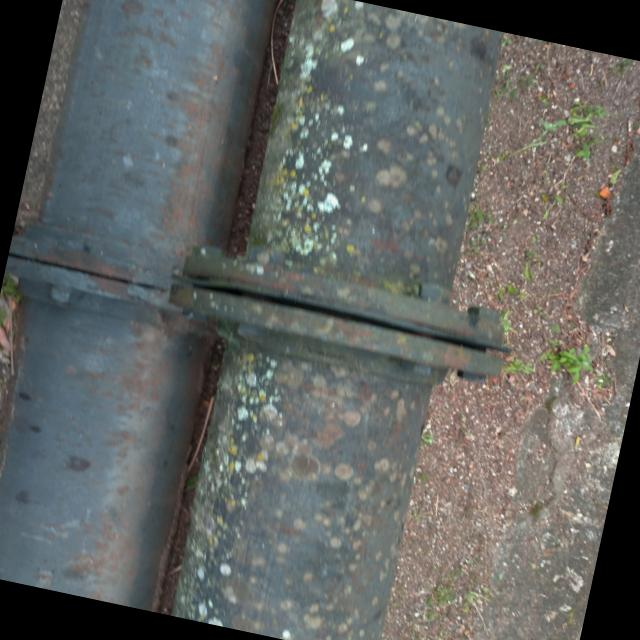gas: (115, 0, 568, 640), (0, 0, 280, 610)
